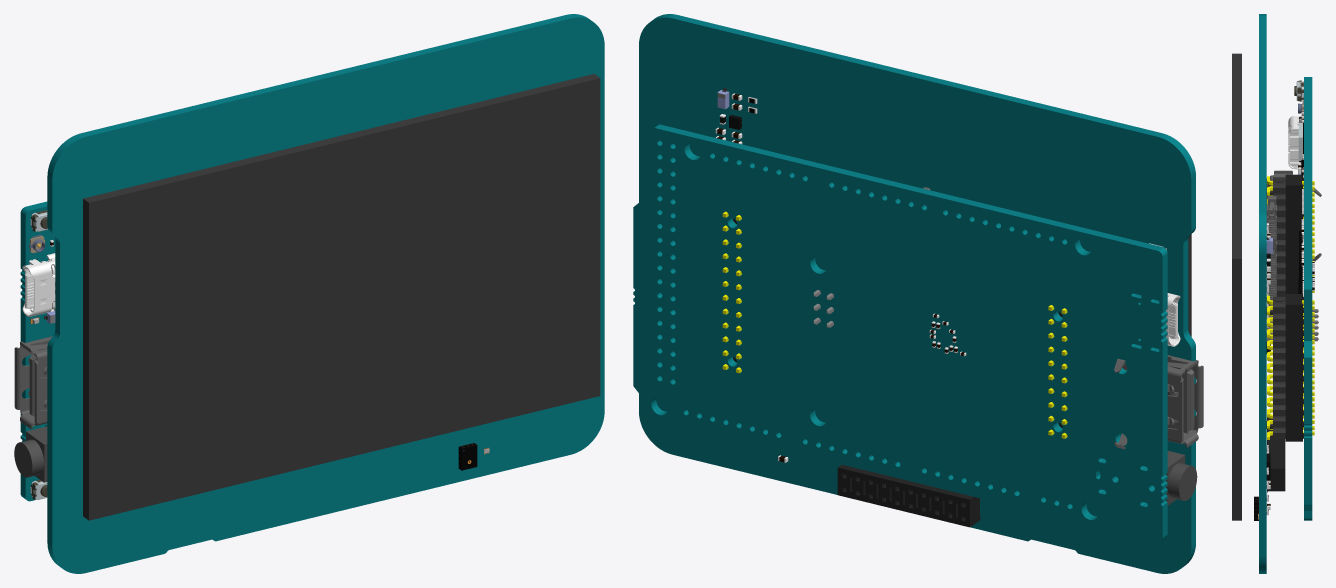
File: giga-r1-display.glb
3 renders of one model, left to right at view 1: azimuth 30°, elevation 25°; view 2: azimuth 150°, elevation 25°; view 3: azimuth 270°, elevation 25°, orthographic. The views are drawn at different scales.
Bounding box in the file's own units: 108 × 80 × 18.11.
